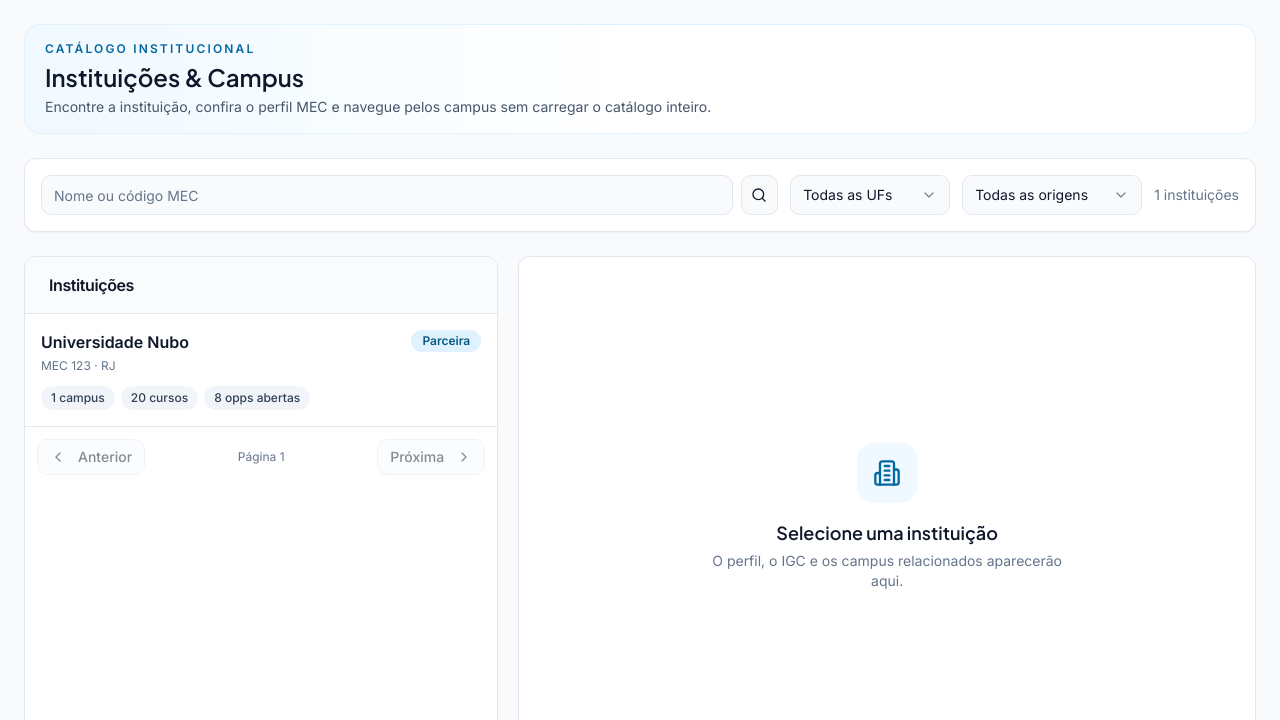
exploradores educacionais › carrega campus somente depois do drill da instituição
expect the text "Universidade Nubo" is shown: met, box [41,330,189,354]
Click the button "Universidade Nubo".
click(115, 342)  # box [25,314,497,426]
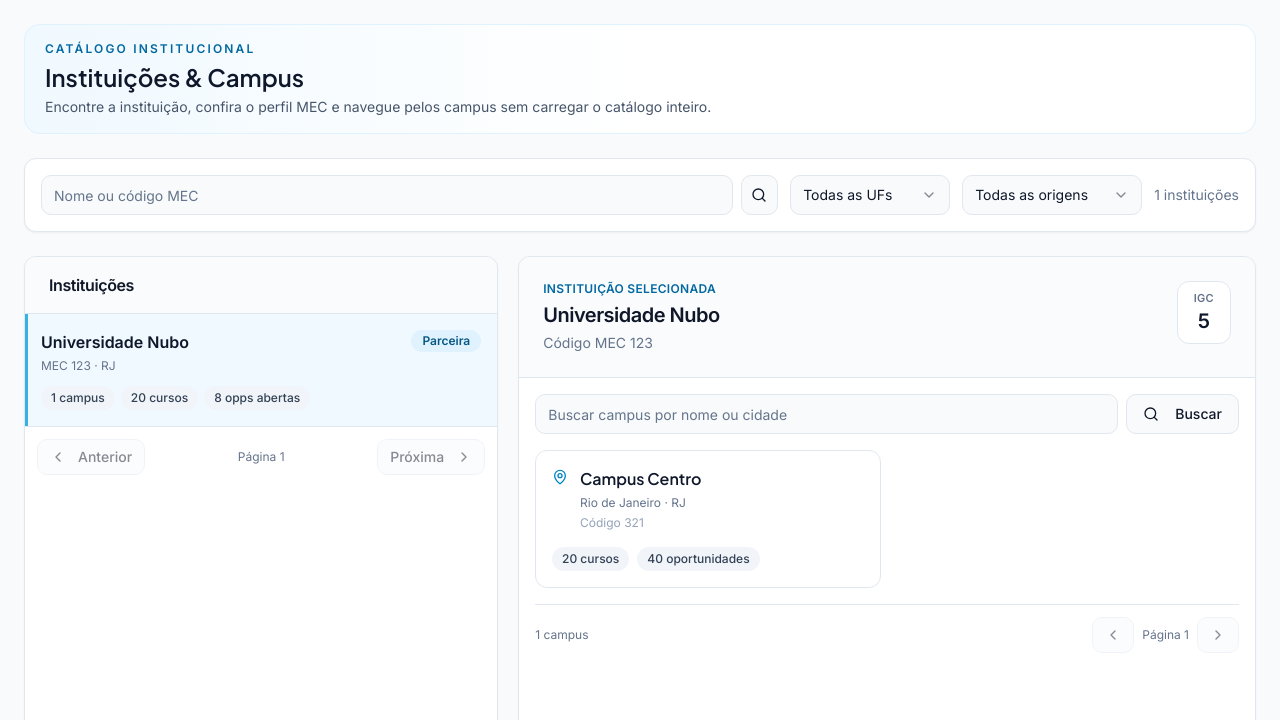
expect the heading "Campus Centro" is shown: met, box [580,467,702,491]
expect the text "5" is shown: met, box [1198,308,1210,332]
